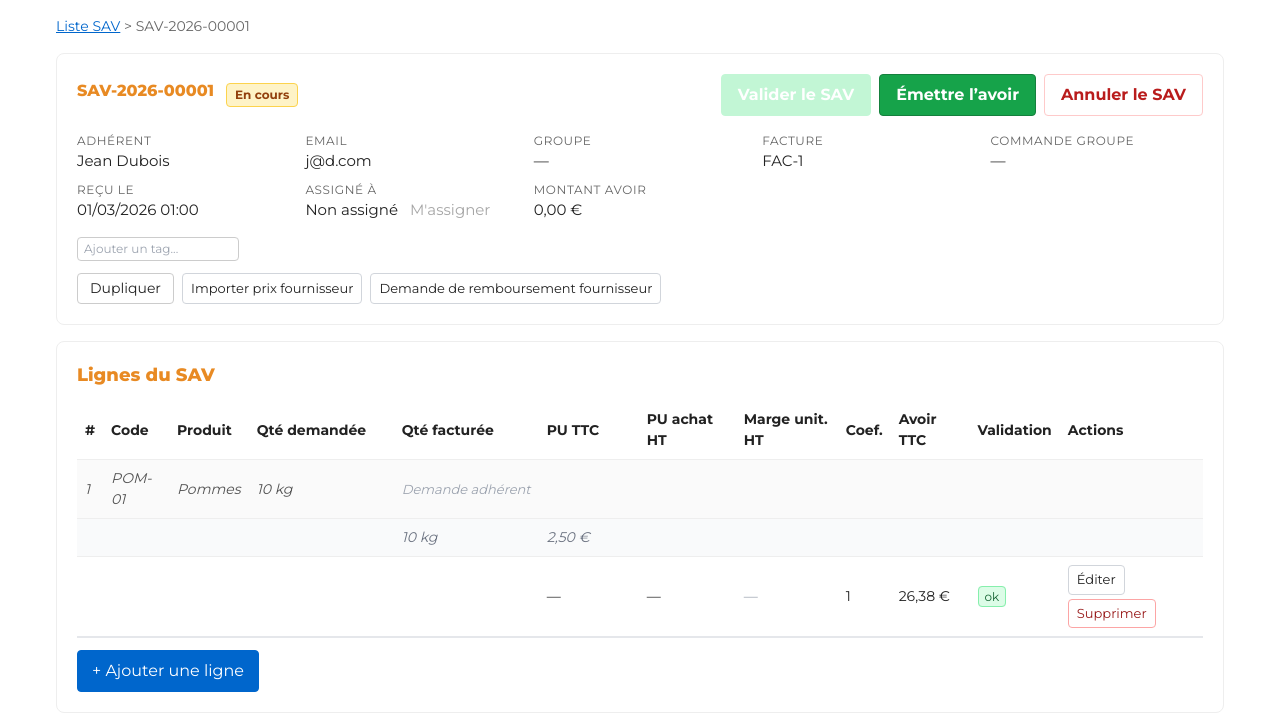
SavDetailView — édition inline lignes (Story 3.6b) › TC-01 : clic Éditer ligne → inputs visibles (qty, unit, prix, coef)
This screenshot has width=1280, height=720.
Step 1. Click the button with test id "edit-line-100" → (1096, 580), box [1068,565,1125,594]
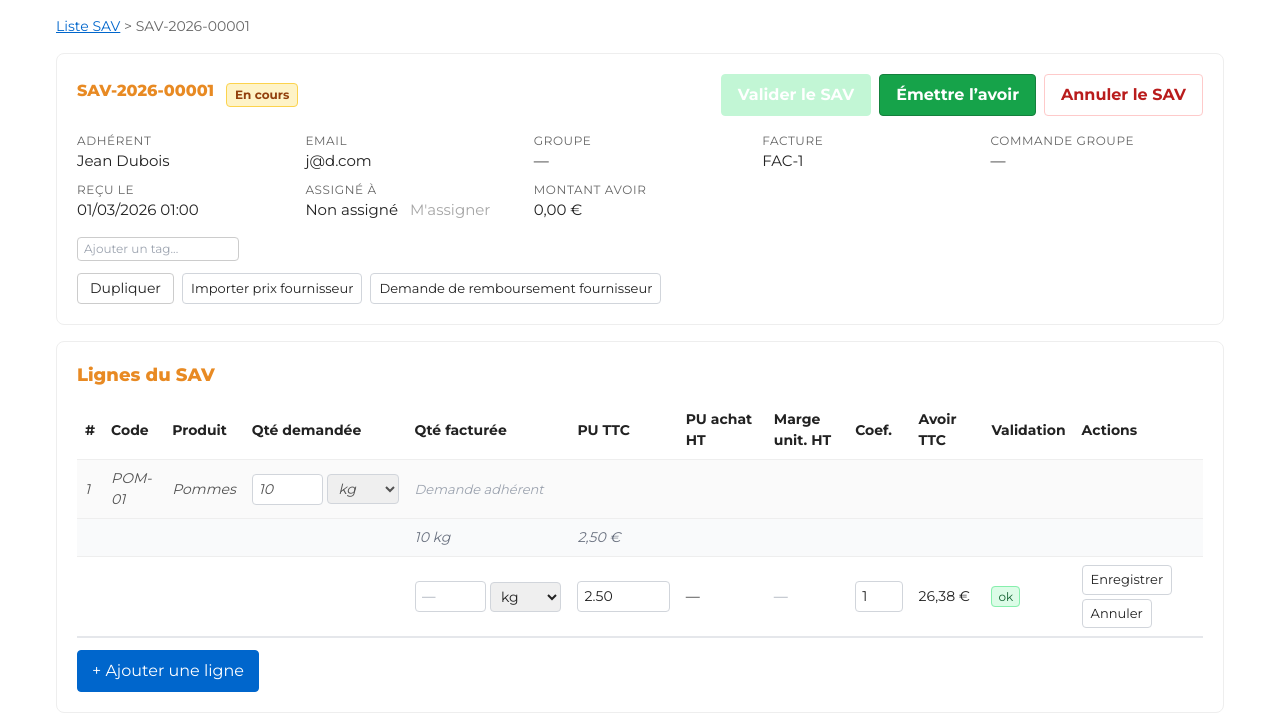
Check: the number field with test id "edit-qty-requested-100" is shown, box [252,474,323,504]
Check: the button with test id "save-line-100" is shown, box [1082,565,1172,594]
